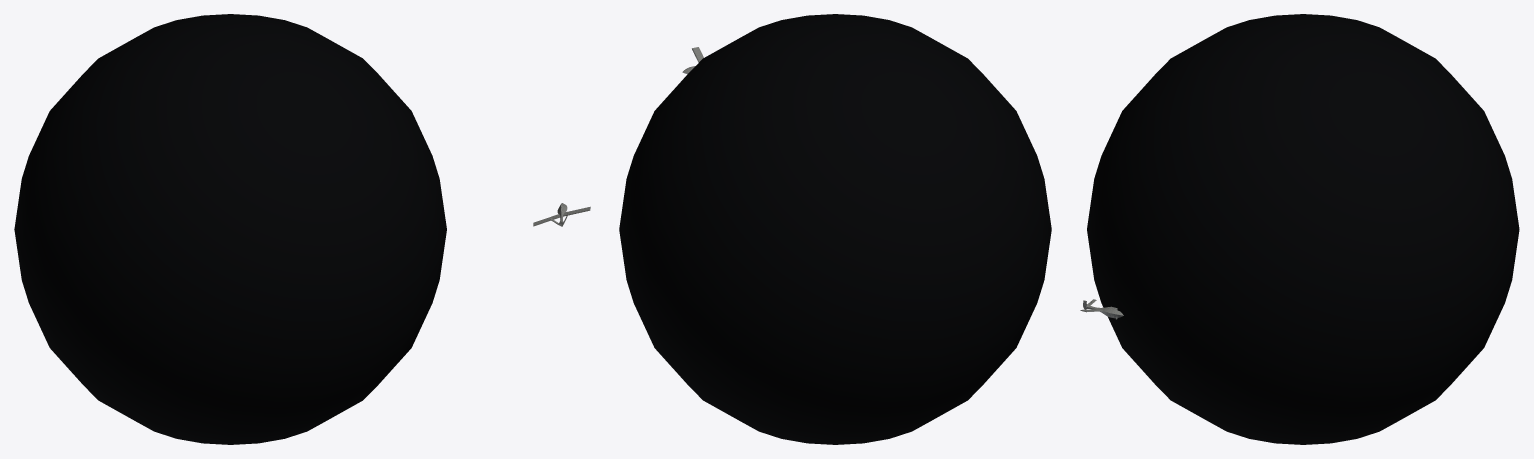
The model's file is UAV FLYING_046-131-031__acd2fe42-12f6-4b38-bda7-a719a4be1a5a.dae.
The picture shows the model from 3 angles, left to right: view 1: azimuth 30°, elevation 25°; view 2: azimuth 150°, elevation 25°; view 3: azimuth 270°, elevation 25°; orthographic projection.
Parts seen in each view (by area): view 1: UAV FLYING; view 2: UAV FLYING; view 3: UAV FLYING.
Boxes of the visible parts, box(x1,y1,x2,y2) form: UAV FLYING: box(14, 14, 446, 444); UAV FLYING: box(619, 14, 1051, 444); UAV FLYING: box(1087, 14, 1519, 444).
Size of the model in its own units: 22.86 by 19.79 by 19.5.
